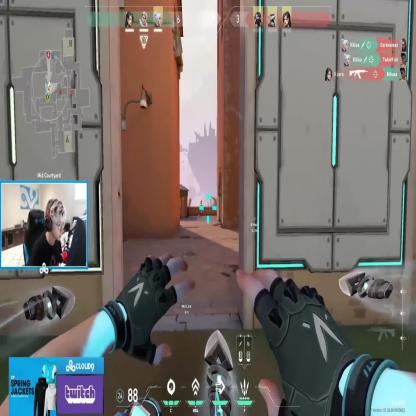enemy: (199, 199, 203, 218)
enemy_head: (200, 199, 202, 204)
